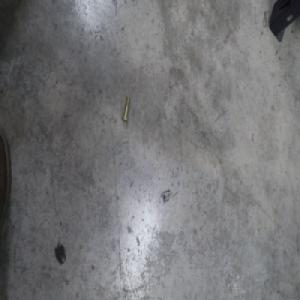Bolt: (121, 95, 130, 123)
